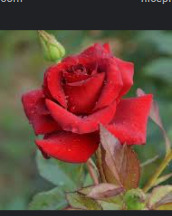RedRose: (19, 36, 157, 167)
